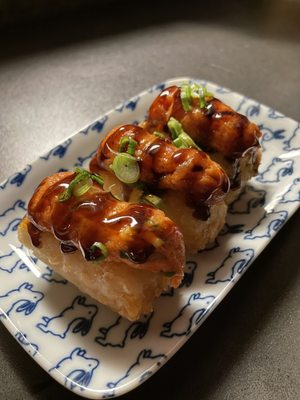sandwich: (20, 171, 189, 321)
